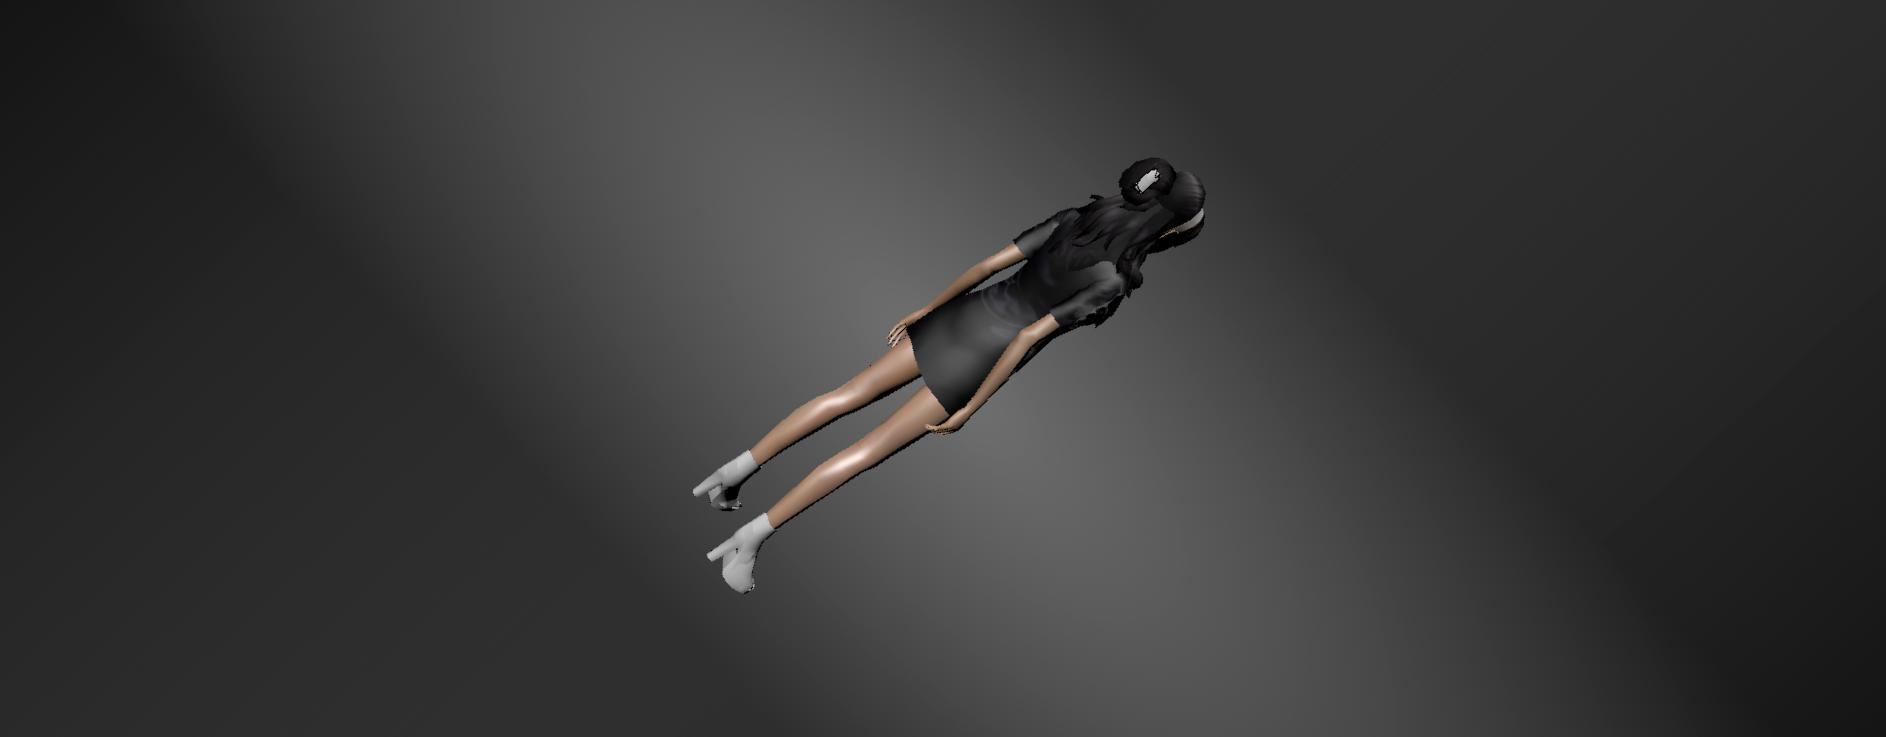clip: (1135, 170, 1161, 194)
